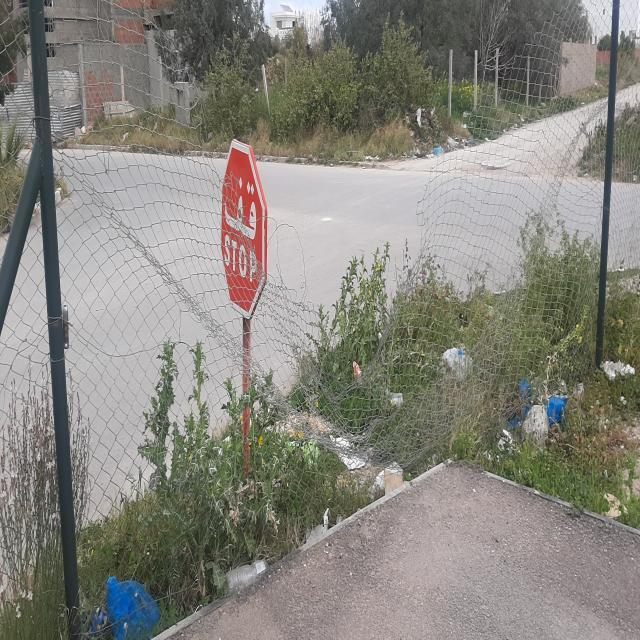fence line: (223, 184, 462, 395)
